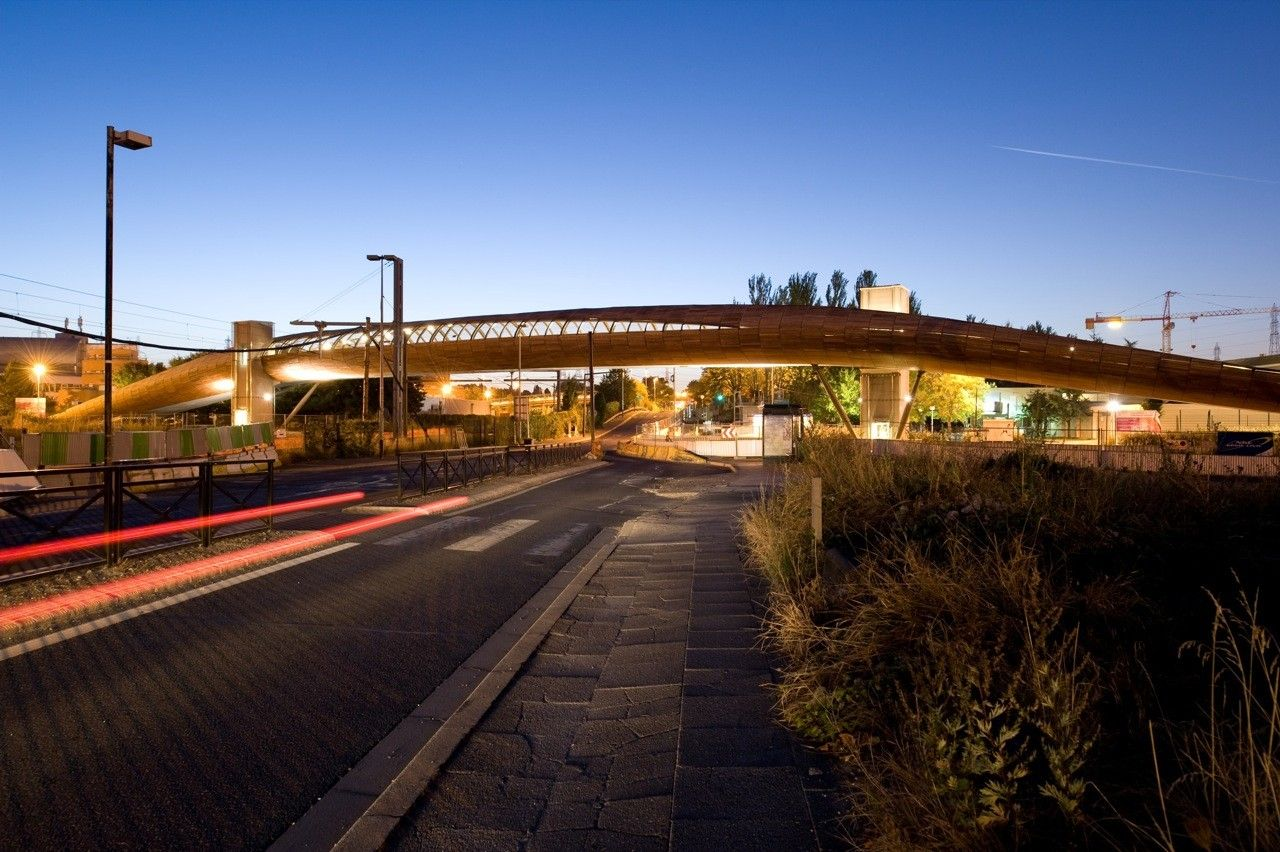bridge: (109, 301, 1279, 431)
